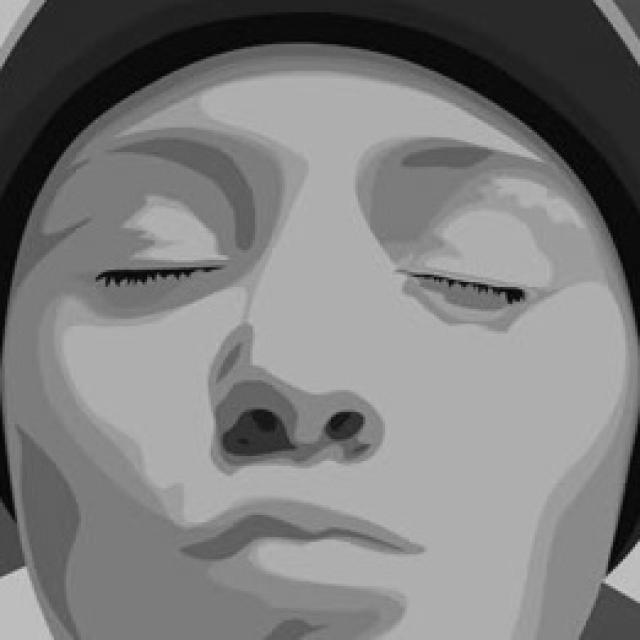real: (64, 26, 624, 585), (84, 190, 564, 334)
